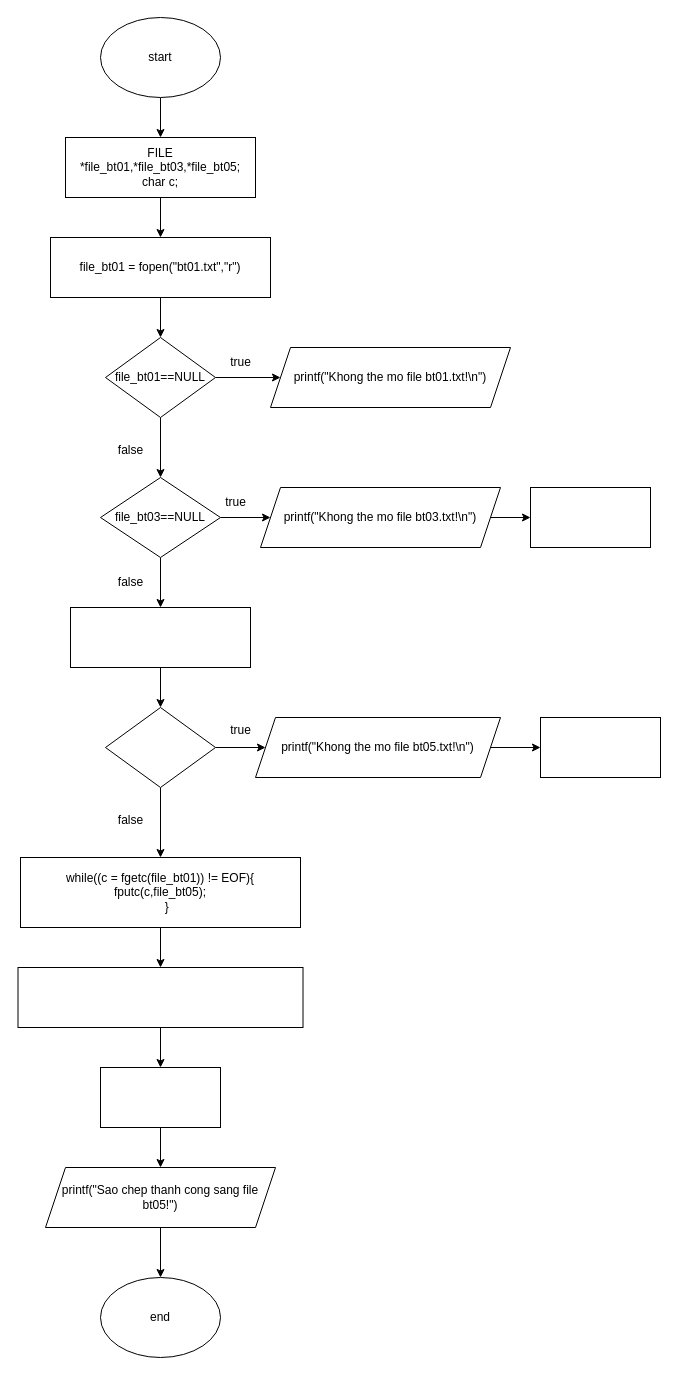
Image size: 678x1375. Some labels were removed from this diagram. The centre of each missing label's shape, as x and y in pixels:
fclose(file_bt01): point 590,517
fclose(file_bt01); fclose(file_bt03);: point 600,747
fclose(file_bt01); fclose(file_bt03); fclose(file_bt05);: point 160,1097
file_bt05 = fopen("bt05.txt","w+"): point 160,637
file_bt05==NULL: point 160,747
while((c = fgetc(file_bt03)) != EOF){ fputc(c,file_bt05); }: point 160,997
